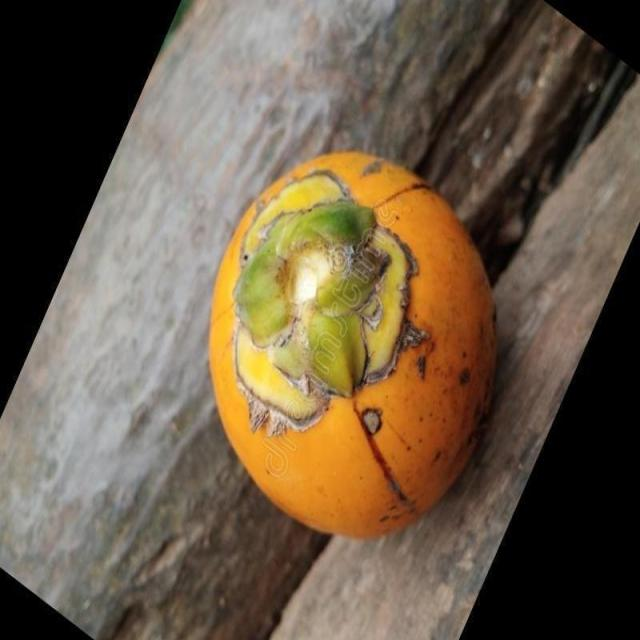good: (209, 151, 497, 540)
